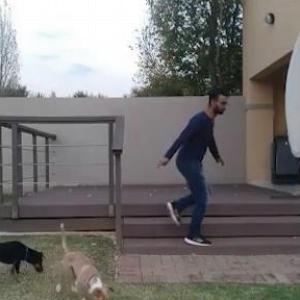land: (114, 79, 236, 256)
